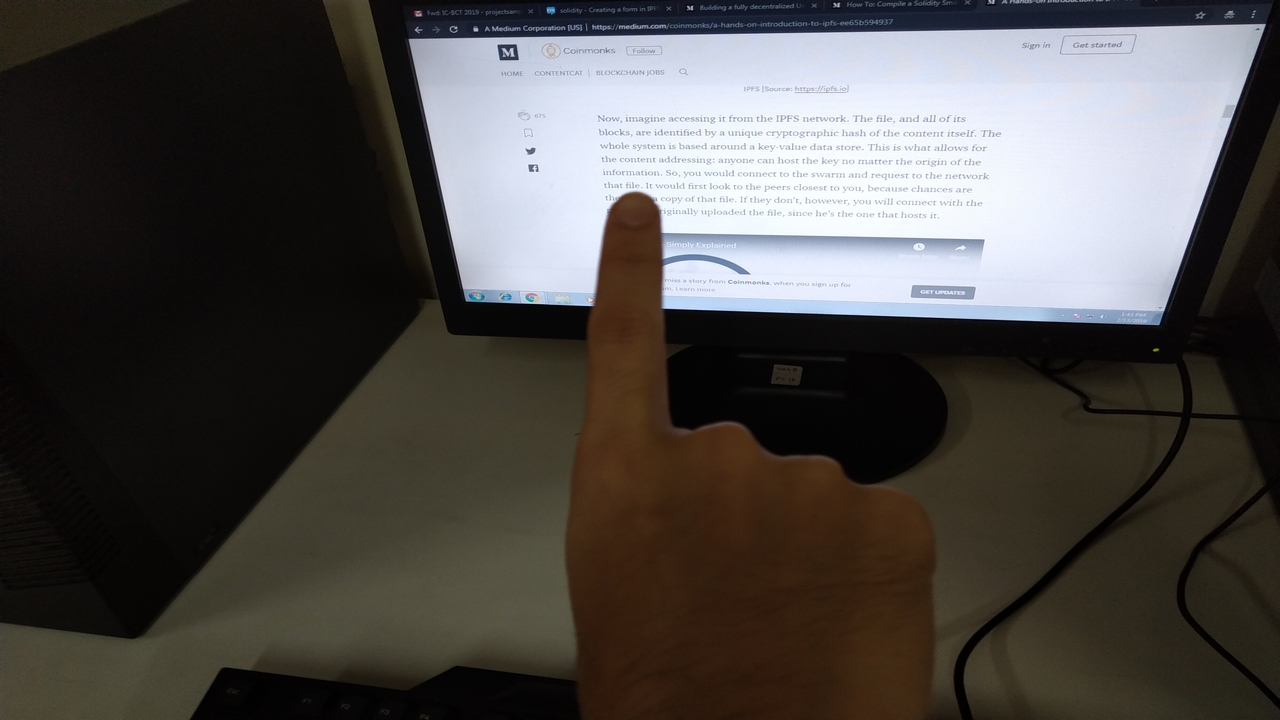fingertip: (602, 190, 664, 236)
